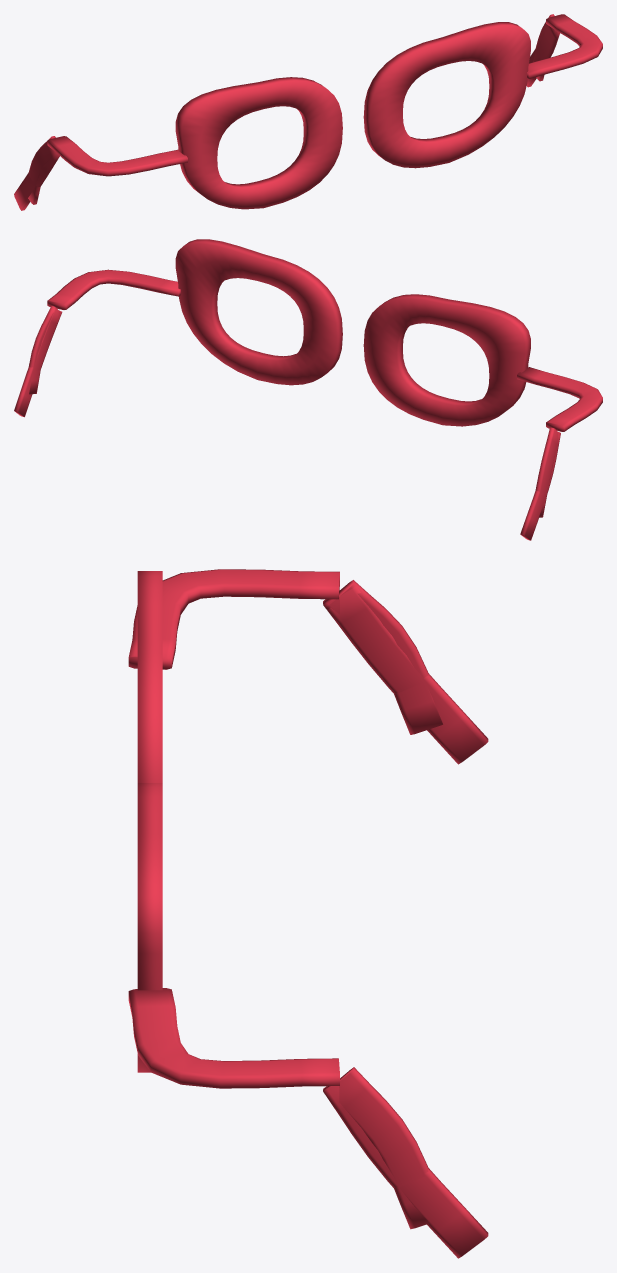
File: hero_mask-pig.glb
The picture shows the model from 3 angles, top to bottom: view 1: azimuth 30°, elevation 25°; view 2: azimuth 150°, elevation 25°; view 3: azimuth 270°, elevation 25°; orthographic projection. The views are drawn at different scales.
Parts seen in each view (by area): view 1: mask, mask.001, tie.001, tie, tail.003, tail.002, tail.001; view 2: mask, mask.001, tie, tie.001, tail.001, tail.002, tail.003, tail; view 3: tie, tail.003, tie.001, mask, mask.001, tail, tail.001, tail.002.
Boxes of the visible parts, box(x1,y1,x2,y2) form: mask: box(363, 22, 530, 168); mask.001: box(175, 77, 342, 209); tie.001: box(47, 136, 187, 176); tie: box(527, 14, 602, 78); tail.003: box(14, 151, 59, 210); tail.002: box(28, 136, 55, 204); tail.001: box(526, 16, 559, 87); mask: box(175, 239, 342, 385); mask.001: box(363, 294, 530, 426); tie: box(47, 269, 180, 309); tie.001: box(517, 367, 602, 431); tail.001: box(14, 308, 62, 417); tail.002: box(535, 427, 558, 517); tail.003: box(520, 432, 560, 540); tail: box(28, 305, 61, 394); tie: box(128, 988, 339, 1088); tail.003: box(323, 586, 488, 764); tie.001: box(128, 569, 339, 669); mask: box(137, 783, 162, 1072); mask.001: box(137, 571, 162, 782); tail: box(339, 1067, 429, 1229); tail.001: box(323, 1086, 488, 1258); tail.002: box(325, 580, 442, 734).
Size of the model in its own units: 1.35 by 0.3604 by 0.4031.
